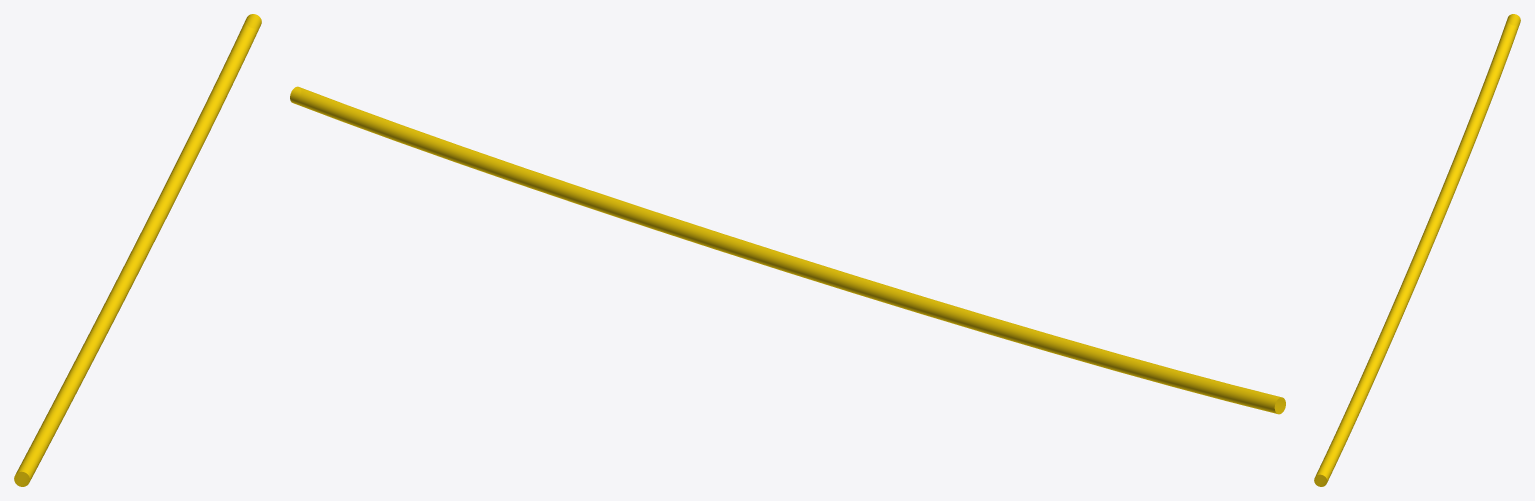
File: Event_421115418_track_195.fbx
3 renders of one model, left to right at view 1: azimuth 90°, elevation 25°; view 2: azimuth 150°, elevation 25°; view 3: azimuth 270°, elevation 25°, orthographic. The views are drawn at different scales.
Visible parts, largest first — view 1: Model; view 2: Model; view 3: Model.
Part boxes in pixels (x1,y1,x2,y2): Model: (14,14,261,486); Model: (290,86,1285,414); Model: (1314,14,1520,486).
Size of the model in its own units: 2.96 by 0.1691 by 0.6118.
